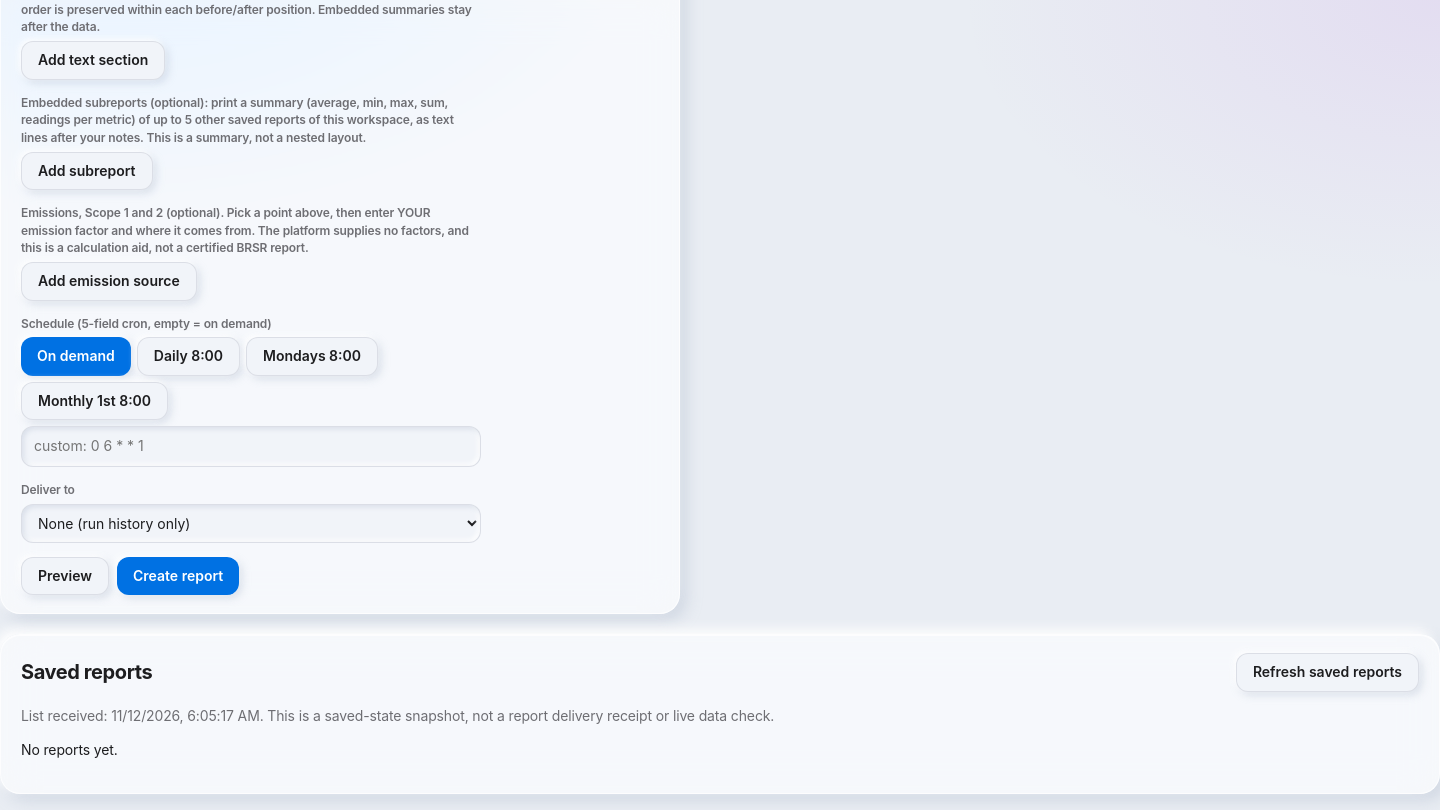
Test: failed or incomplete refresh clears old HTML and permits retry, with no save or delivery
(page scrolled)
Click the button "Preview" at (65, 576), box [21,556,109,595]
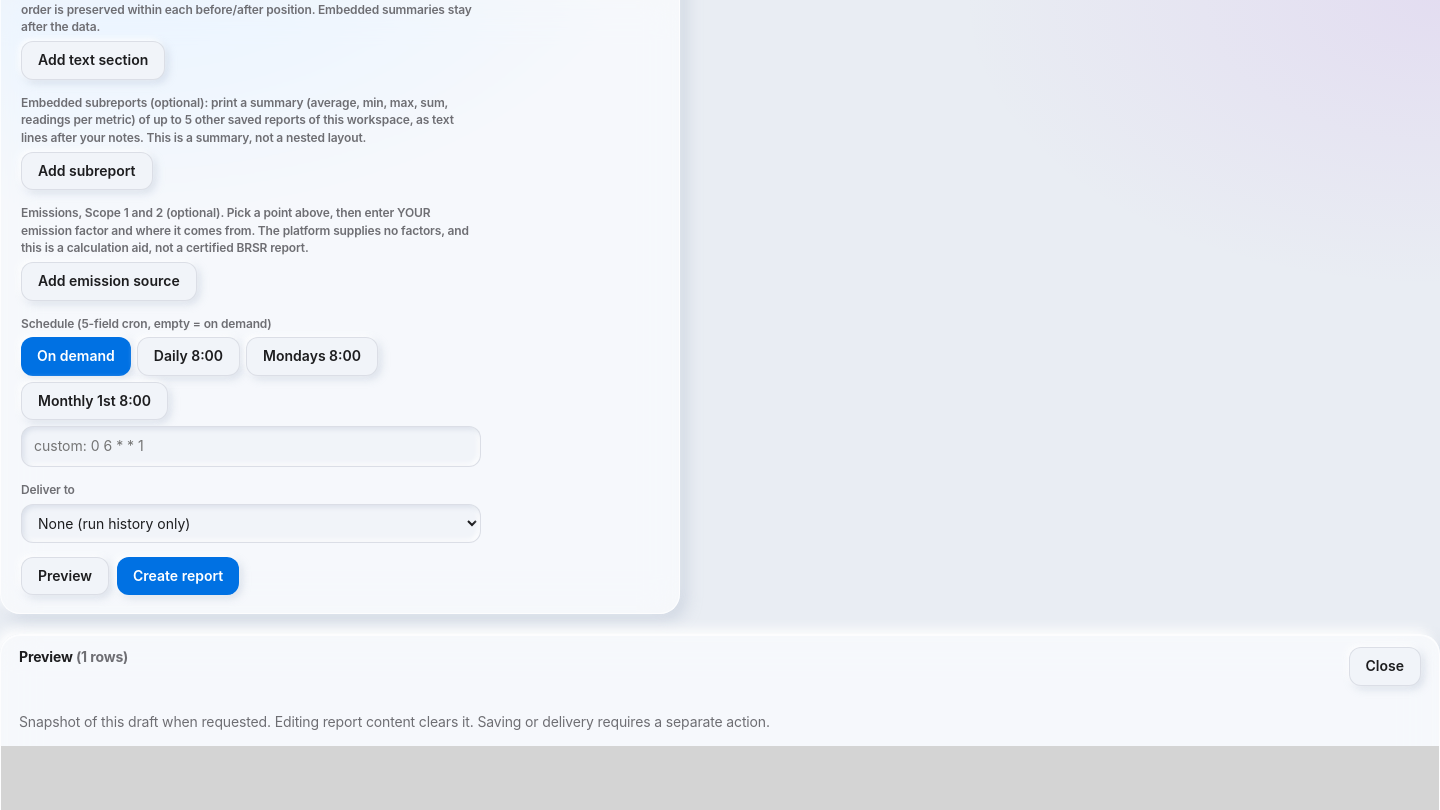
Click the button "Preview" at (65, 576), box [21,556,109,595]
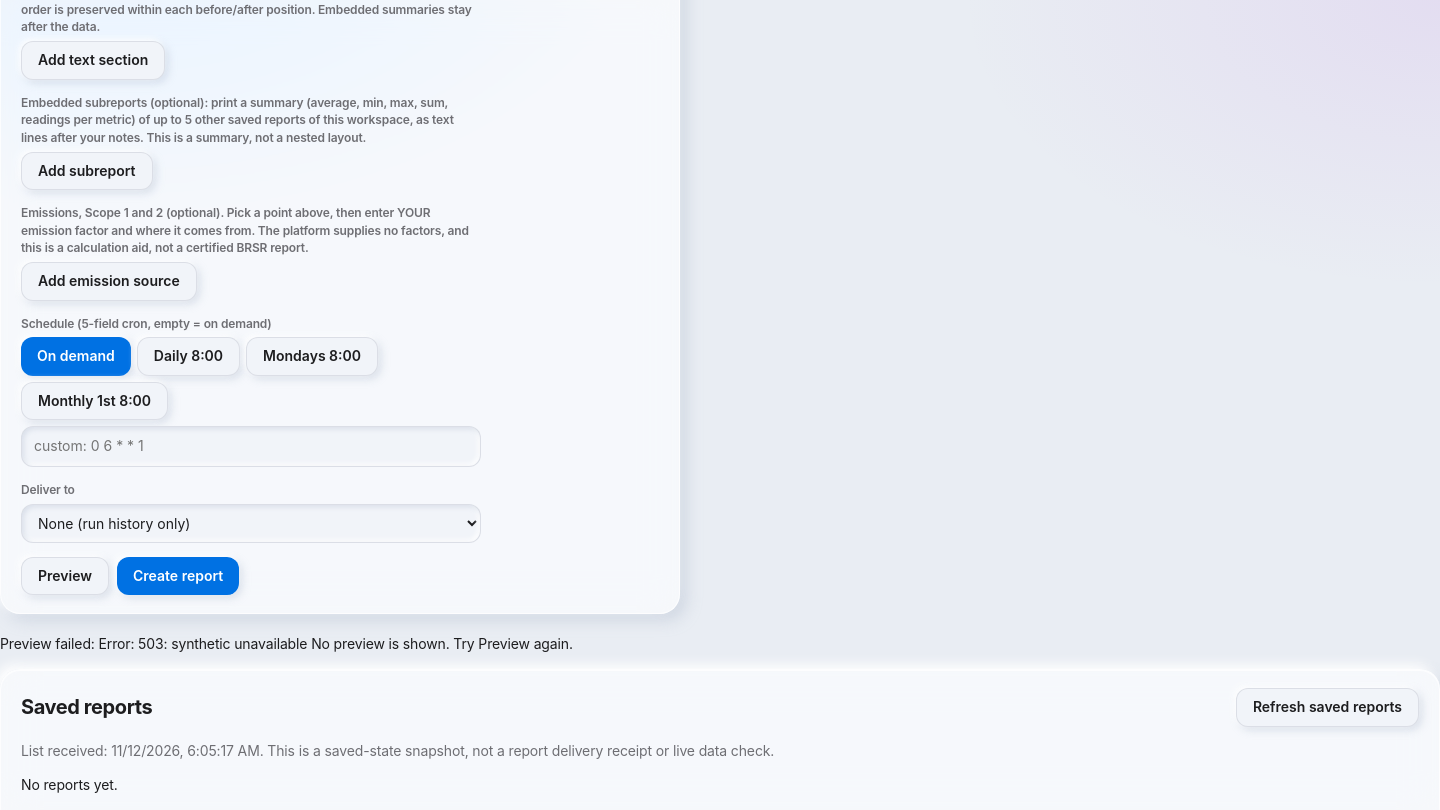
Check: the message shows "Preview failed", box [0,635,98,652]
Click the button "Preview" at (65, 576), box [21,556,109,595]
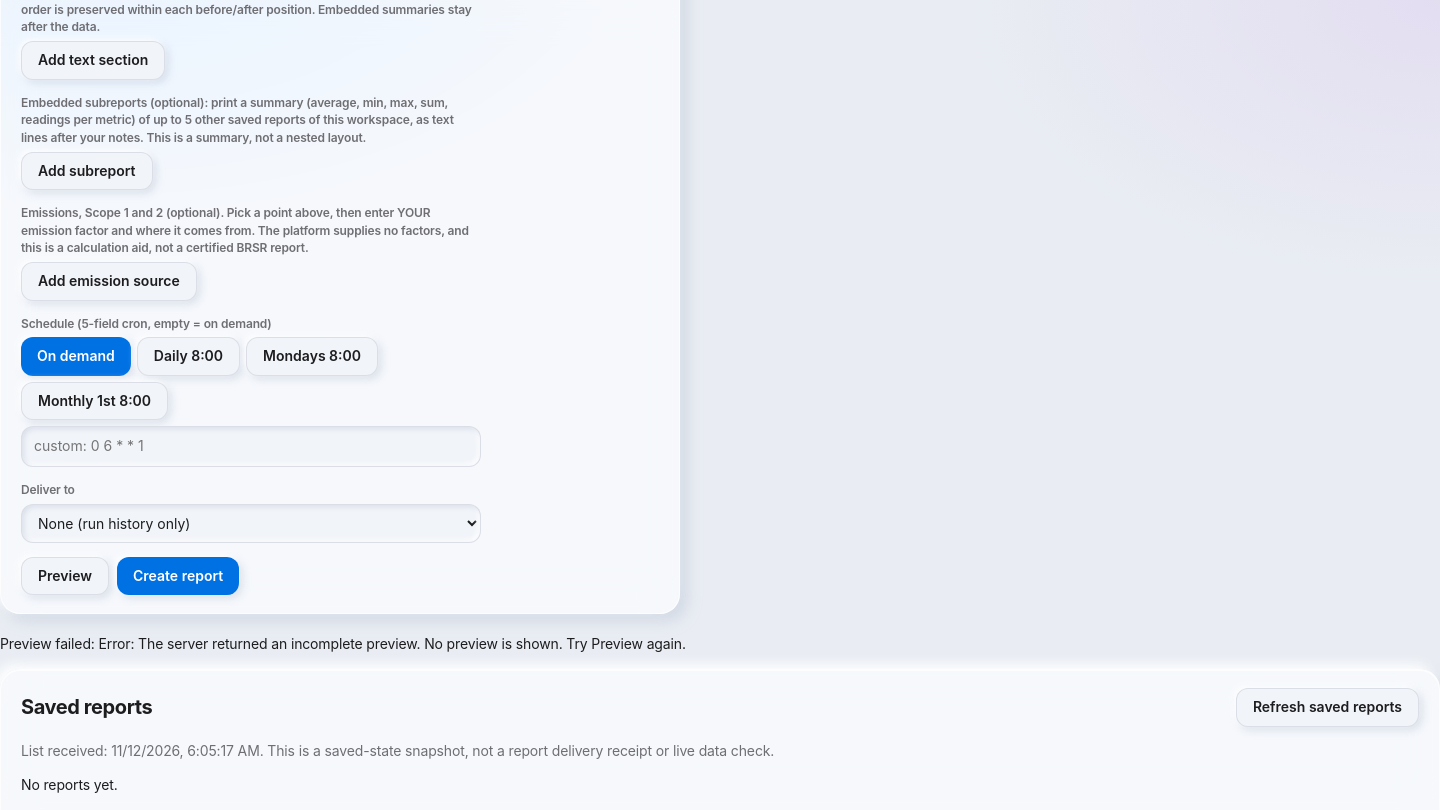
Check: the text "incomplete preview" is shown, box [98,635,420,652]
